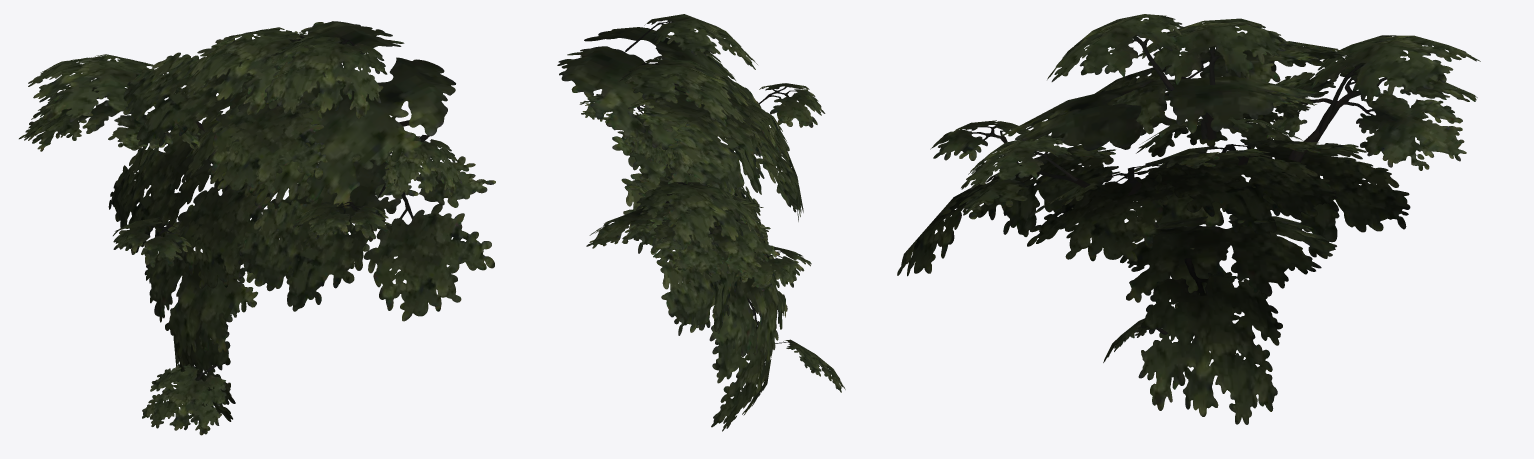
The picture shows the model from 3 angles, left to right: view 1: azimuth 30°, elevation 25°; view 2: azimuth 150°, elevation 25°; view 3: azimuth 270°, elevation 25°; orthographic projection. The views are drawn at different scales.
Parts seen in each view (by area): view 1: body0_model0_lod0_mesh0; view 2: body0_model0_lod0_mesh0; view 3: body0_model0_lod0_mesh0.
Boxes of the visible parts, x1,y1,x2,y2 form: body0_model0_lod0_mesh0: [19, 21, 495, 435]; body0_model0_lod0_mesh0: [557, 14, 845, 431]; body0_model0_lod0_mesh0: [897, 14, 1480, 424].
Bounding box in the file's own units: 371 × 429 × 536.
1 material, 1 textured.
